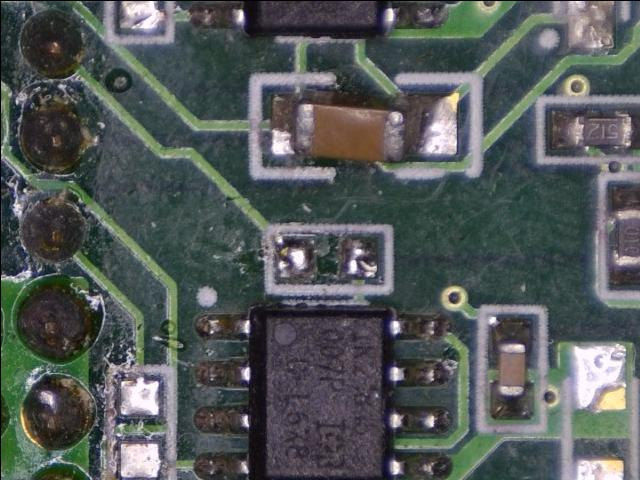Incorrect_installation: (271, 91, 460, 162)
